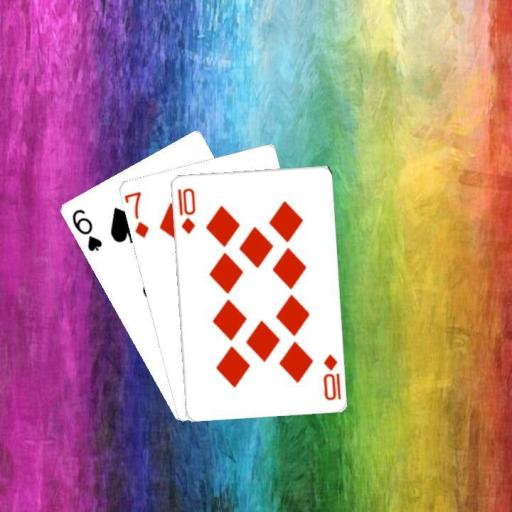10D: (174, 184, 197, 235), (319, 351, 342, 402)
6S: (68, 206, 103, 253)
7D: (123, 188, 150, 240)
